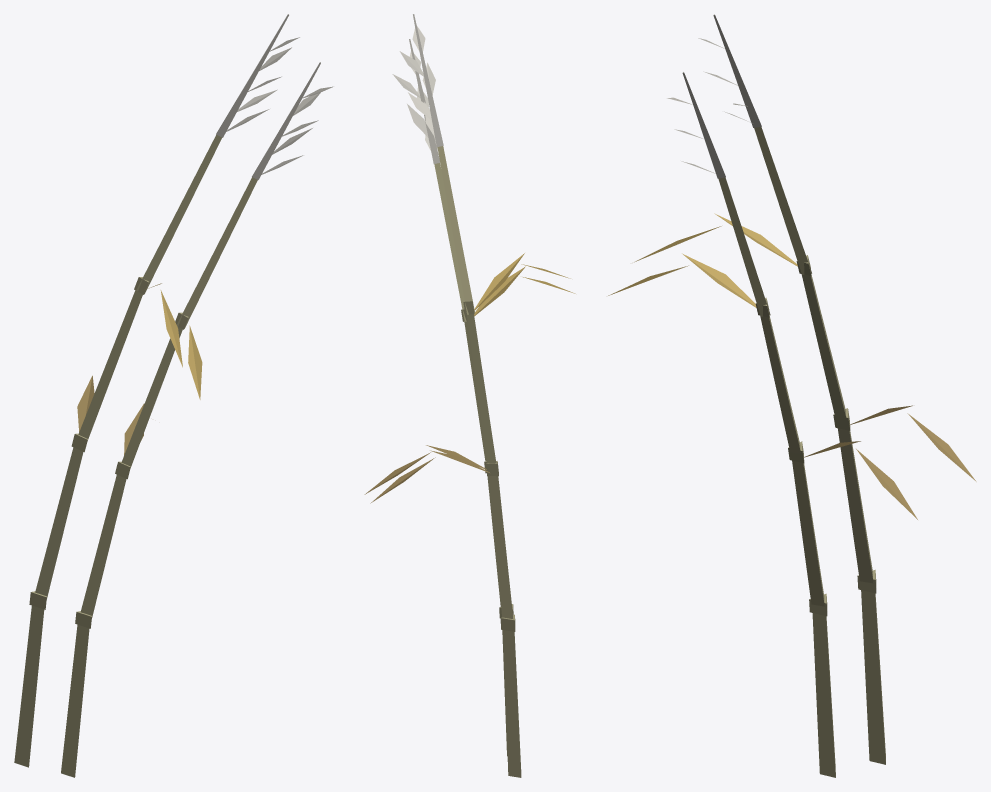
Rendered from shui.luwei@subadult__autumn.glb.
3 renders of one model, left to right at view 1: azimuth 30°, elevation 25°; view 2: azimuth 150°, elevation 25°; view 3: azimuth 270°, elevation 25°, orthographic. The views are drawn at different scales.
Visible parts, largest first — view 1: shui.luwei@subadult__autumn; view 2: shui.luwei@subadult__autumn; view 3: shui.luwei@subadult__autumn.
Part boxes in pixels (x1,y1,x2,y2): shui.luwei@subadult__autumn: (14, 14, 333, 777); shui.luwei@subadult__autumn: (364, 14, 575, 777); shui.luwei@subadult__autumn: (608, 14, 976, 777).
Bounding box in the file's own units: 0.5534 × 1.76 × 0.696.
